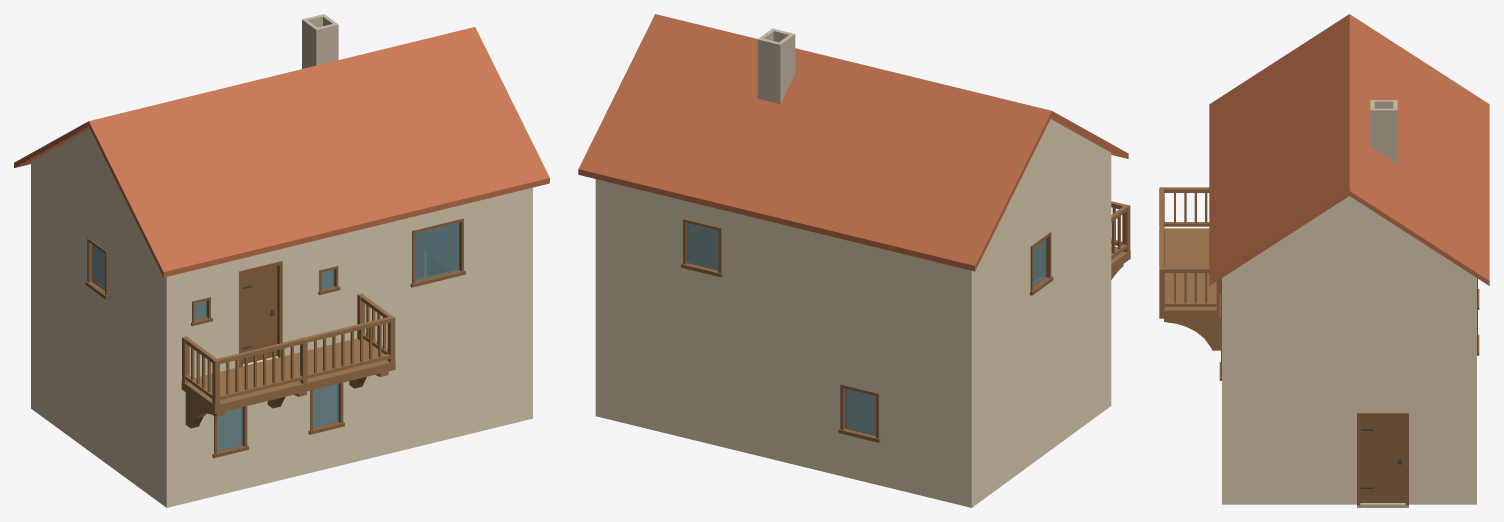
The model's file is Casa-de-ribera.glb.
3 views of the same model, side by side, from view 1: azimuth 30°, elevation 25°; view 2: azimuth 150°, elevation 25°; view 3: azimuth 270°, elevation 25° (orthographic). The views are drawn at different scales.
Visible parts, largest first — view 1: Faldón del balcón, Muro · Balcón, Muro · Lateral, Balcón · plataforma, Puerta · balcón, Muro · Entrada, Cristal · ribera alta, Chimenea, Cerco · balcón, Cristal · ribera baja derecha, Cristal · ribera baja izquierda, Marco · ribera alta (+3 smaller); view 2: Muro · Trasera, Faldón trasero, Muro · Lateral, Muro · Entrada, Chimenea, Cristal · trasera alta, Cristal · trasera baja, Marco · trasera alta, Marco · trasera baja, Faldón del balcón, Marco · lateral; view 3: Muro · Entrada, Faldón del balcón, Faldón trasero, Puerta · entrada, Balcón · plataforma, Chimenea, Ménsula 3, Cerco · entrada.
Part boxes in pixels (bbox=[...]): Faldón del balcón: bbox=[88, 27, 549, 277]; Muro · Balcón: bbox=[176, 190, 523, 505]; Muro · Lateral: bbox=[31, 129, 176, 507]; Balcón · plataforma: bbox=[181, 338, 395, 413]; Puerta · balcón: bbox=[243, 266, 277, 364]; Muro · Entrada: bbox=[523, 187, 532, 420]; Cristal · ribera alta: bbox=[415, 222, 459, 280]; Chimenea: bbox=[302, 14, 338, 68]; Cerco · balcón: bbox=[239, 261, 282, 367]; Cristal · ribera baja derecha: bbox=[313, 384, 338, 427]; Cristal · ribera baja izquierda: bbox=[217, 407, 242, 451]; Marco · ribera alta: bbox=[410, 218, 465, 287]; Muro · Trasera: bbox=[605, 181, 961, 505]; Faldón trasero: bbox=[578, 14, 1051, 271]; Muro · Lateral: bbox=[962, 119, 1111, 507]; Muro · Entrada: bbox=[595, 179, 605, 418]; Chimenea: bbox=[757, 28, 795, 103]; Cristal · trasera alta: bbox=[687, 223, 718, 270]; Cristal · trasera baja: bbox=[845, 388, 875, 435]; Marco · trasera alta: bbox=[681, 219, 722, 277]; Marco · trasera baja: bbox=[838, 384, 880, 442]; Faldón del balcón: bbox=[1051, 111, 1128, 158]; Marco · lateral: bbox=[1030, 232, 1053, 295]; Muro · Entrada: bbox=[1222, 196, 1476, 504]; Faldón del balcón: bbox=[1209, 14, 1349, 285]; Faldón trasero: bbox=[1349, 14, 1489, 285]; Puerta · entrada: bbox=[1360, 416, 1405, 502]; Balcón · plataforma: bbox=[1159, 228, 1219, 318]; Chimenea: bbox=[1370, 100, 1397, 163]; Ménsula 3: bbox=[1164, 318, 1221, 350]; Cerco · entrada: bbox=[1357, 413, 1408, 505].
Size of the model in its own units: 8.86 by 8.06 by 7.
